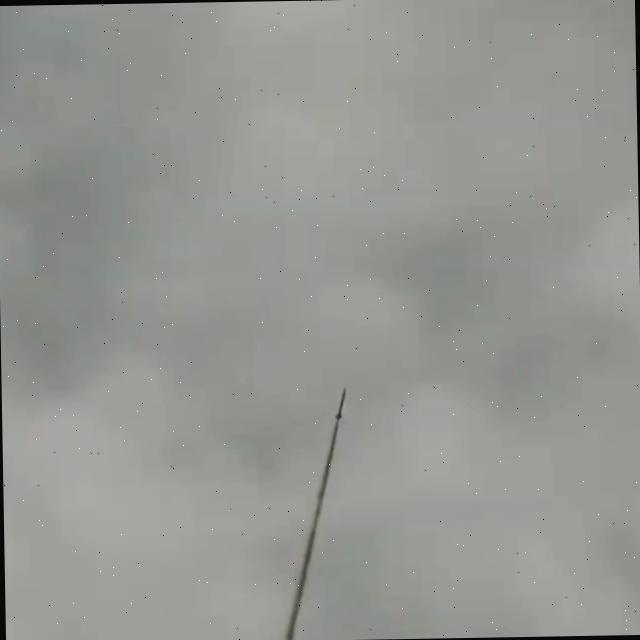smoke_trail_with_rocket: (283, 389, 346, 640)
